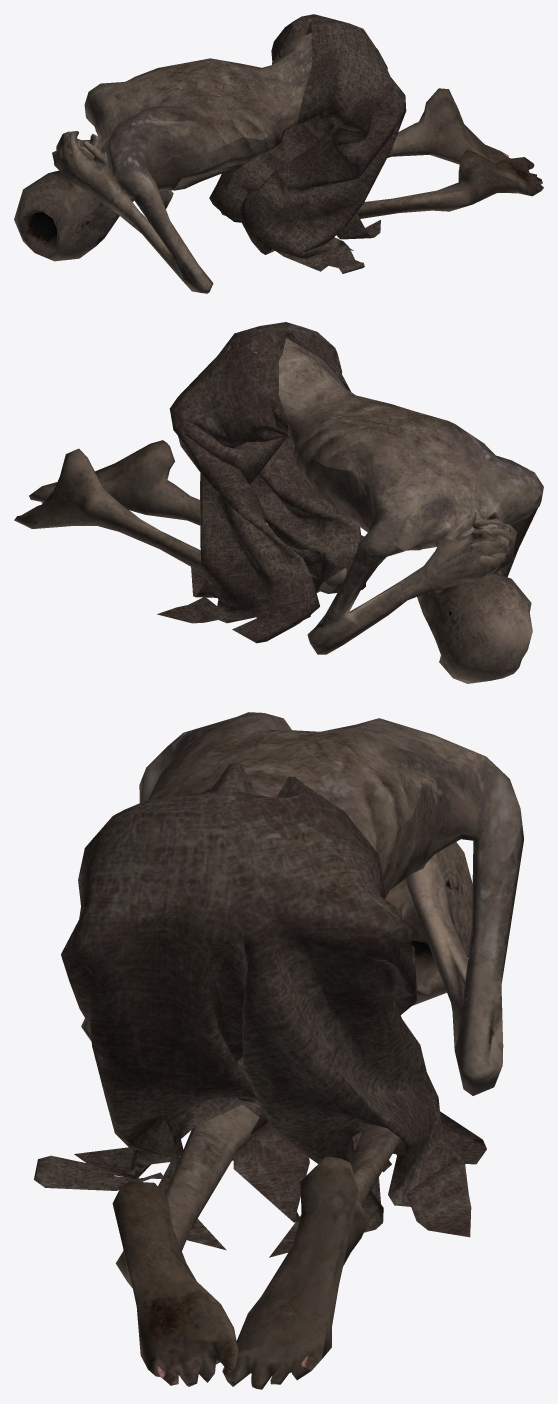
File: P_Deceased06.fbx
3 renders of one model, top to bottom at view 1: azimuth 30°, elevation 25°; view 2: azimuth 150°, elevation 25°; view 3: azimuth 270°, elevation 25°, orthographic. The views are drawn at different scales.
Visible parts, largest first — view 1: P_Deceased06; view 2: P_Deceased06; view 3: P_Deceased06.
Boxes of the visible parts, <box> form: P_Deceased06: <box>14,14,543,293</box>; P_Deceased06: <box>14,322,543,683</box>; P_Deceased06: <box>34,712,523,1389</box>.
Size of the model in its own units: 111 by 48.5 by 49.81.
